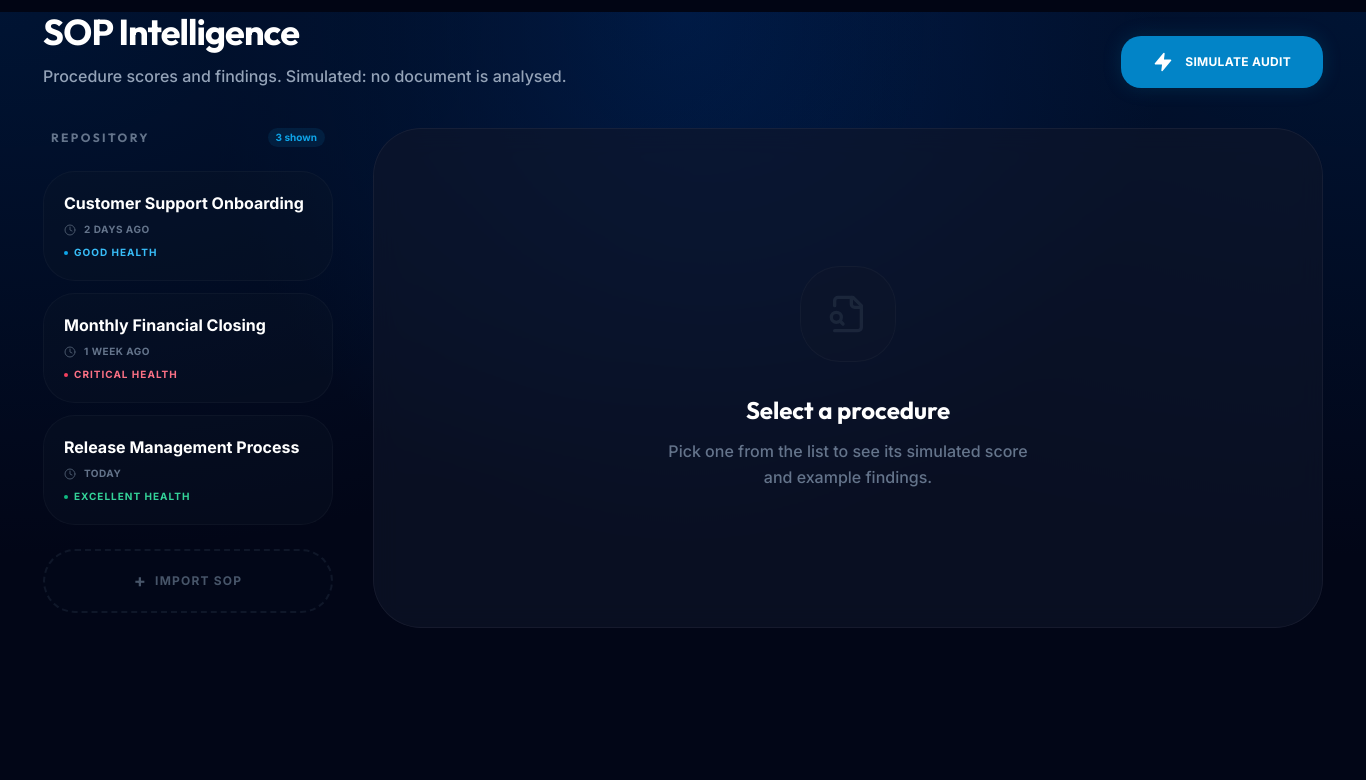
Scenario: SOPAnalysis › selects a procedure and shows its simulated score
Expected: the text "Select a procedure" is shown, [746, 394, 950, 426]
Step 1. Click the button "Monthly Financial Closing 1 week ago Critical Health" → (165, 325), box [43, 293, 333, 403]
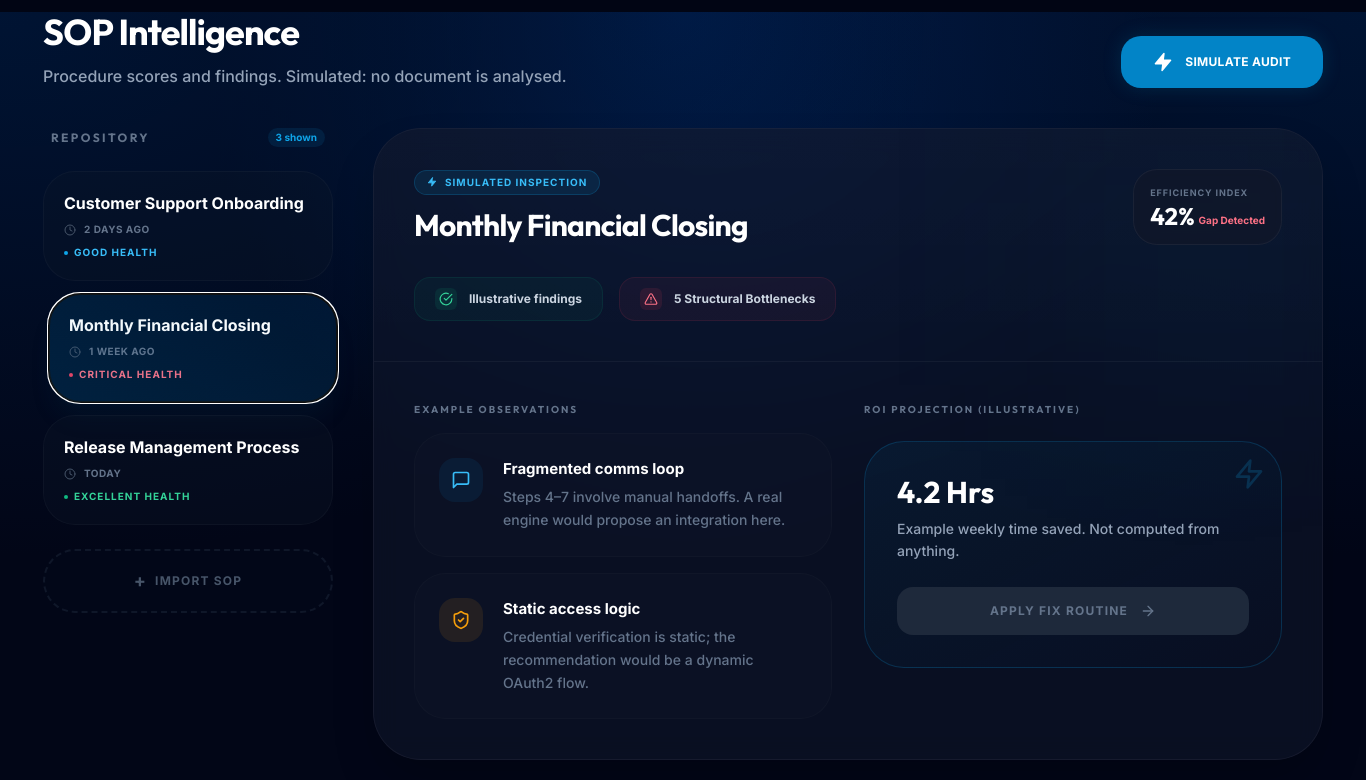
Expected: the text "42%" is shown, [1150, 204, 1195, 228]
Expected: the text "Gap Detected" is shown, [1199, 212, 1265, 228]
Expected: the text "5 Structural Bottlenecks" is shown, [674, 290, 815, 306]
